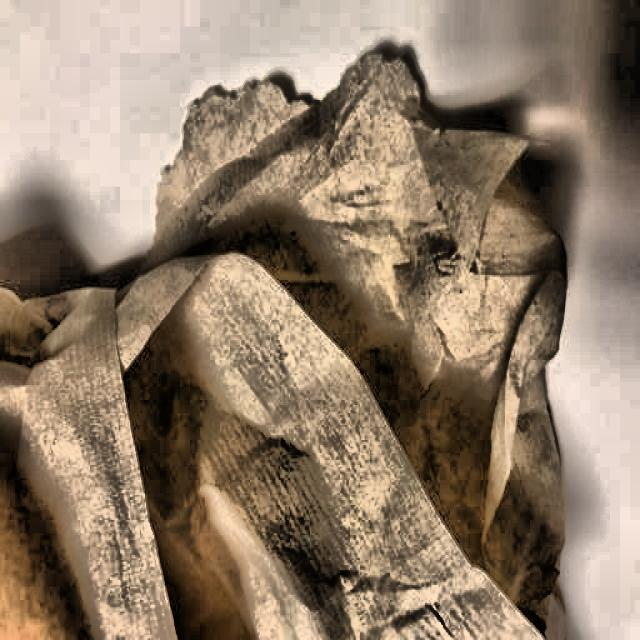trash: (0, 96, 556, 640)
